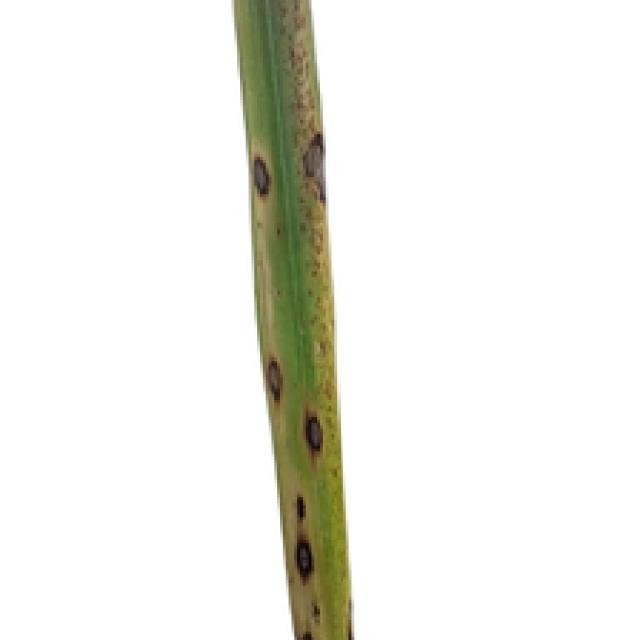Rice___Rice_Blast: (234, 0, 358, 637)
